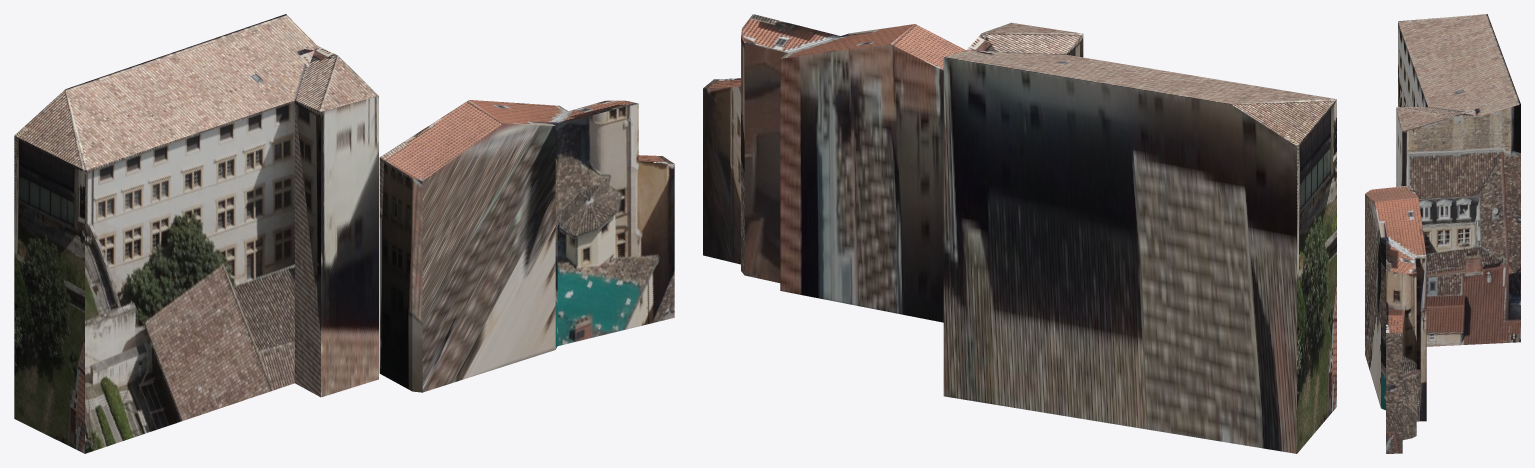
3 views of the same model, side by side, from view 1: azimuth 30°, elevation 25°; view 2: azimuth 150°, elevation 25°; view 3: azimuth 270°, elevation 25° (orthographic). The views are drawn at different scales.
Visible parts, largest first — view 1: Z_UP; view 2: Z_UP; view 3: Z_UP.
Boxes of the visible parts, <box> form: Z_UP: <box>14,14,674,453</box>; Z_UP: <box>703,14,1336,453</box>; Z_UP: <box>1365,14,1520,453</box>.
Bounding box in the file's own units: 55.11 × 27.46 × 16.29.
Materials: 2 (1 with a texture image).
